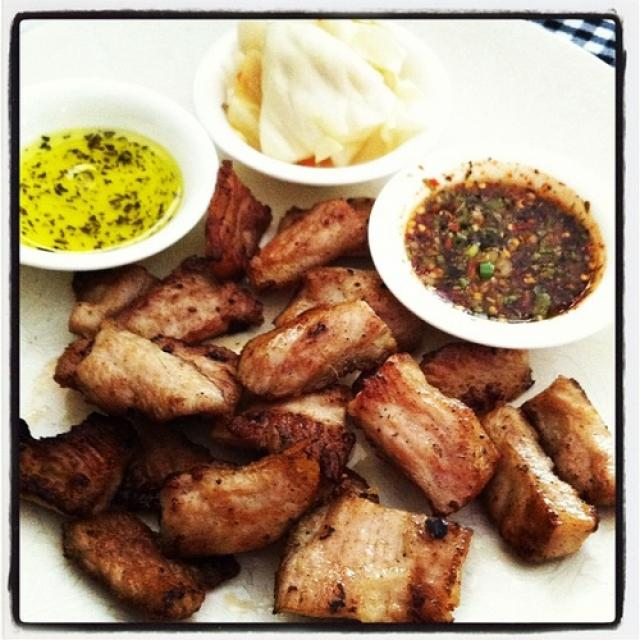猪肉菜式: (36, 69, 598, 618)
